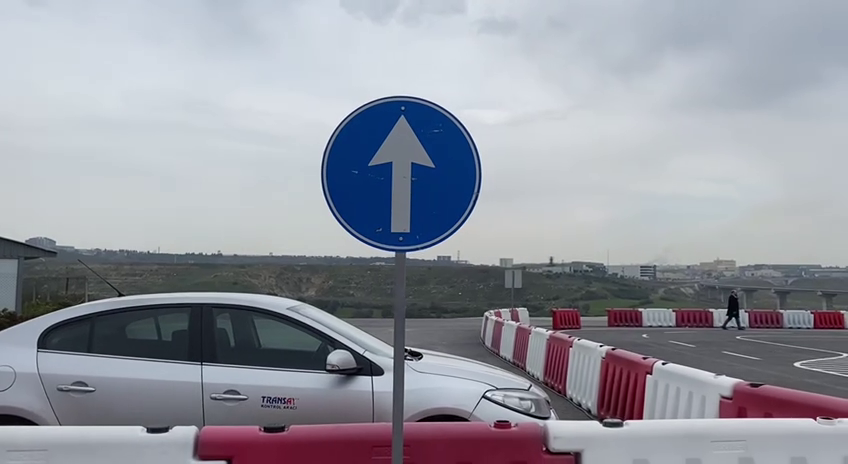forward: (314, 88, 488, 258)
